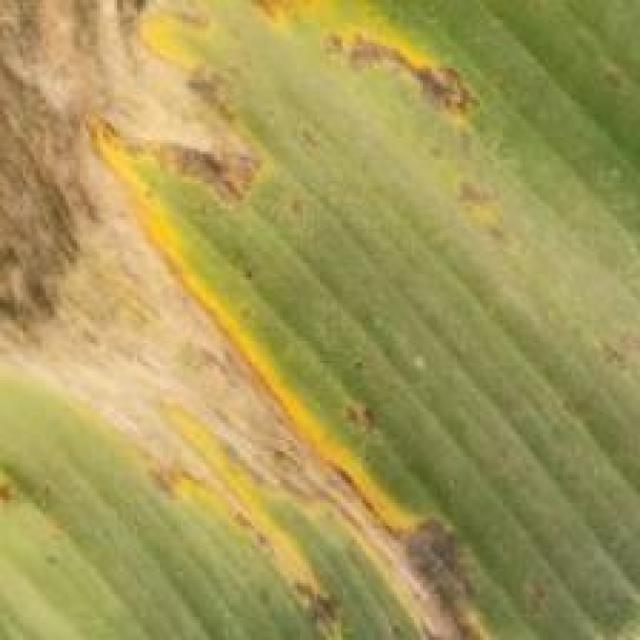Downey_mildrew: (3, 3, 591, 640)
